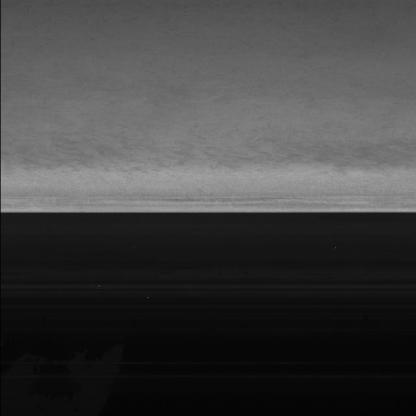silk_spot: (201, 195, 369, 206)
